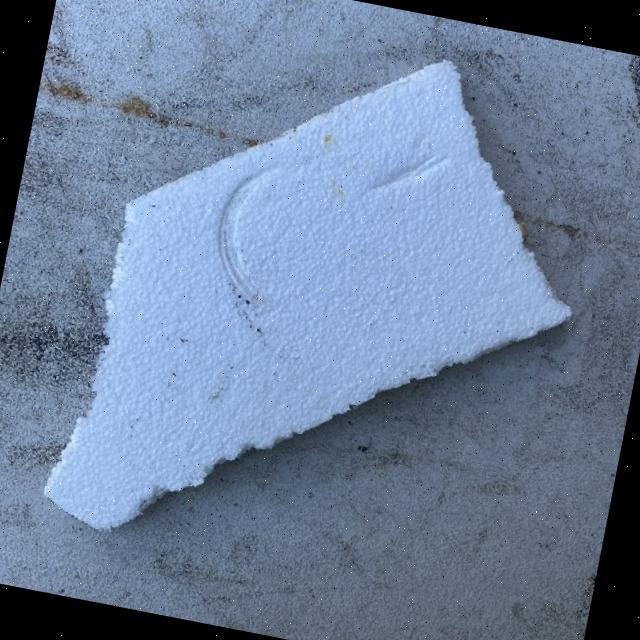styrofoam: (35, 0, 614, 610)
